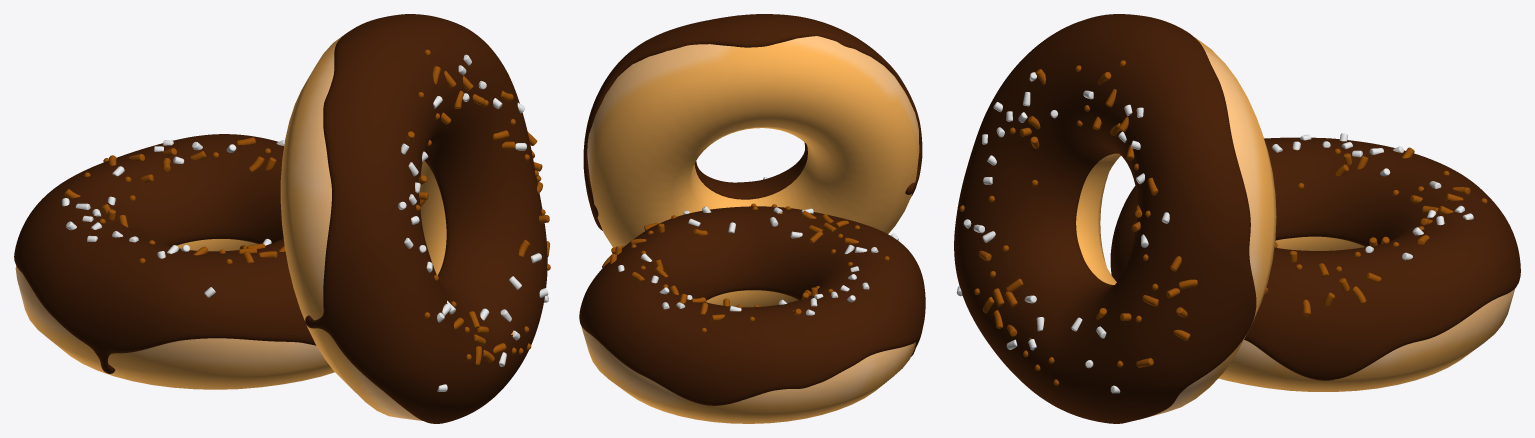
File: double.gltf
3 views of the same model, side by side, from view 1: azimuth 30°, elevation 25°; view 2: azimuth 150°, elevation 25°; view 3: azimuth 270°, elevation 25° (orthographic). The views are drawn at different scales.
Parts seen in each view (by area): view 1: icing, icing.001, Donut.008, Donut.001; view 2: icing.001, Donut.008, Donut.001, icing; view 3: icing, icing.001, Donut.008, Donut.001.
Boxes of the visible parts, x1=… form: icing: x1=305, y1=14, x2=550, y2=423; icing.001: x1=14, y1=134, x2=316, y2=373; Donut.008: x1=280, y1=35, x2=513, y2=420; Donut.001: x1=15, y1=239, x2=334, y2=389; icing.001: x1=579, y1=203, x2=925, y2=405; Donut.008: x1=587, y1=36, x2=919, y2=247; Donut.001: x1=581, y1=212, x2=915, y2=423; icing: x1=583, y1=14, x2=922, y2=230; icing: x1=954, y1=14, x2=1256, y2=423; icing.001: x1=1110, y1=133, x2=1520, y2=380; Donut.008: x1=1029, y1=37, x2=1276, y2=416; Donut.001: x1=1218, y1=236, x2=1515, y2=391.
Size of the model in its own units: 0.1813 by 0.1446 by 0.2062.
Materials: 7 (1 with a texture image).
